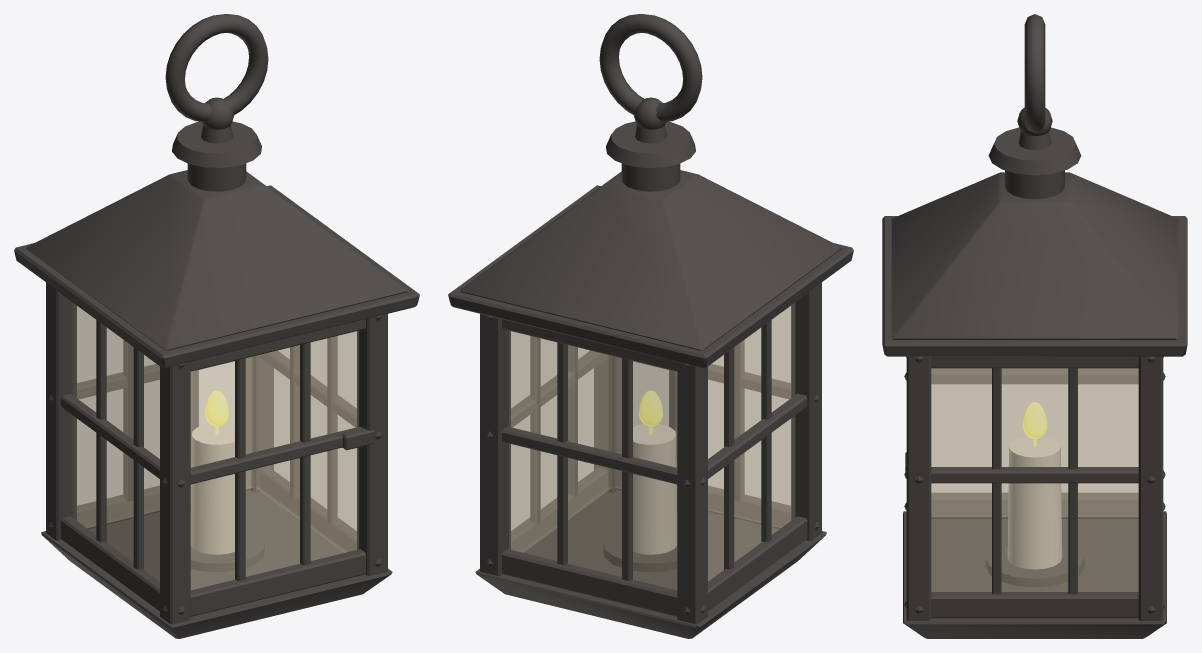
The model's file is iron-lantern_final.glb.
3 views of the same model, side by side, from view 1: azimuth 30°, elevation 25°; view 2: azimuth 150°, elevation 25°; view 3: azimuth 270°, elevation 25° (orthographic).
Visible parts, largest first — view 1: SM_IronLantern_Frame, SM_IronLantern_Roof, SM_IronLantern_Glass, SM_IronLantern_Base, SM_IronLantern_Ring, SM_IronLantern_Candle, SM_IronLantern_Flame; view 2: SM_IronLantern_Frame, SM_IronLantern_Roof, SM_IronLantern_Glass, SM_IronLantern_Base, SM_IronLantern_Ring, SM_IronLantern_Candle, SM_IronLantern_Flame; view 3: SM_IronLantern_Roof, SM_IronLantern_Glass, SM_IronLantern_Frame, SM_IronLantern_Base, SM_IronLantern_Candle, SM_IronLantern_Ring, SM_IronLantern_Flame.
Boxes of the visible parts, x1,y1,x2,y2 form: SM_IronLantern_Frame: (46,282,387,624); SM_IronLantern_Roof: (14,97,419,368); SM_IronLantern_Glass: (73,303,358,589); SM_IronLantern_Base: (41,490,392,638); SM_IronLantern_Ring: (165,14,268,121); SM_IronLantern_Candle: (190,424,234,554); SM_IronLantern_Flame: (205,390,228,434); SM_IronLantern_Frame: (480,282,821,624); SM_IronLantern_Roof: (448,97,853,368); SM_IronLantern_Glass: (509,303,794,589); SM_IronLantern_Base: (475,490,826,638); SM_IronLantern_Ring: (599,14,702,121); SM_IronLantern_Candle: (633,424,677,554); SM_IronLantern_Flame: (639,390,662,434); SM_IronLantern_Roof: (882,107,1187,356); SM_IronLantern_Glass: (931,368,1138,591); SM_IronLantern_Frame: (904,356,1165,620); SM_IronLantern_Base: (903,511,1166,638); SM_IronLantern_Candle: (1007,436,1062,569); SM_IronLantern_Ring: (1024,14,1045,132); SM_IronLantern_Flame: (1022,402,1047,447).
Size of the model in its own units: 0.2233 by 0.47 by 0.2233.
